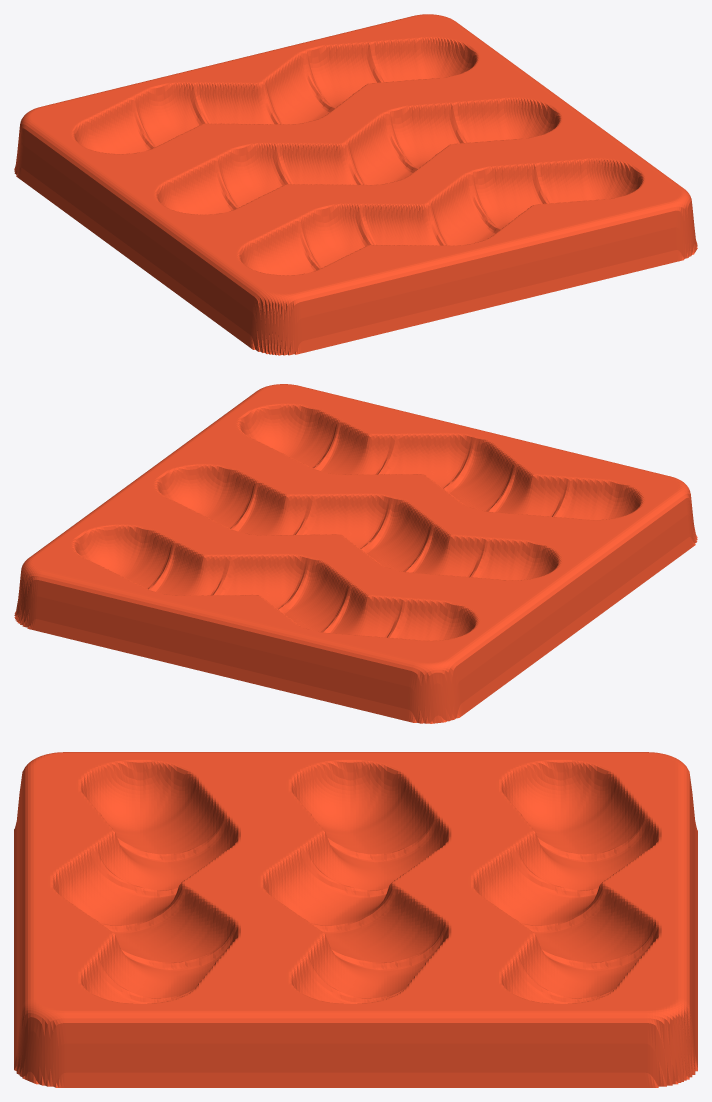
The model's file is mold.glb.
3 views of the same model, one above another, from view 1: azimuth 30°, elevation 25°; view 2: azimuth 150°, elevation 25°; view 3: azimuth 270°, elevation 25° (orthographic). The views are drawn at different scales.
Parts seen in each view (by area): view 1: geometry_0; view 2: geometry_0; view 3: geometry_0.
Part boxes in pixels (x1,y1,x2,y2): geometry_0: (14, 14, 697, 355); geometry_0: (14, 384, 697, 723); geometry_0: (14, 752, 697, 1087).
Bounding box in the file's own units: 0.116 × 0.0135 × 0.122.
